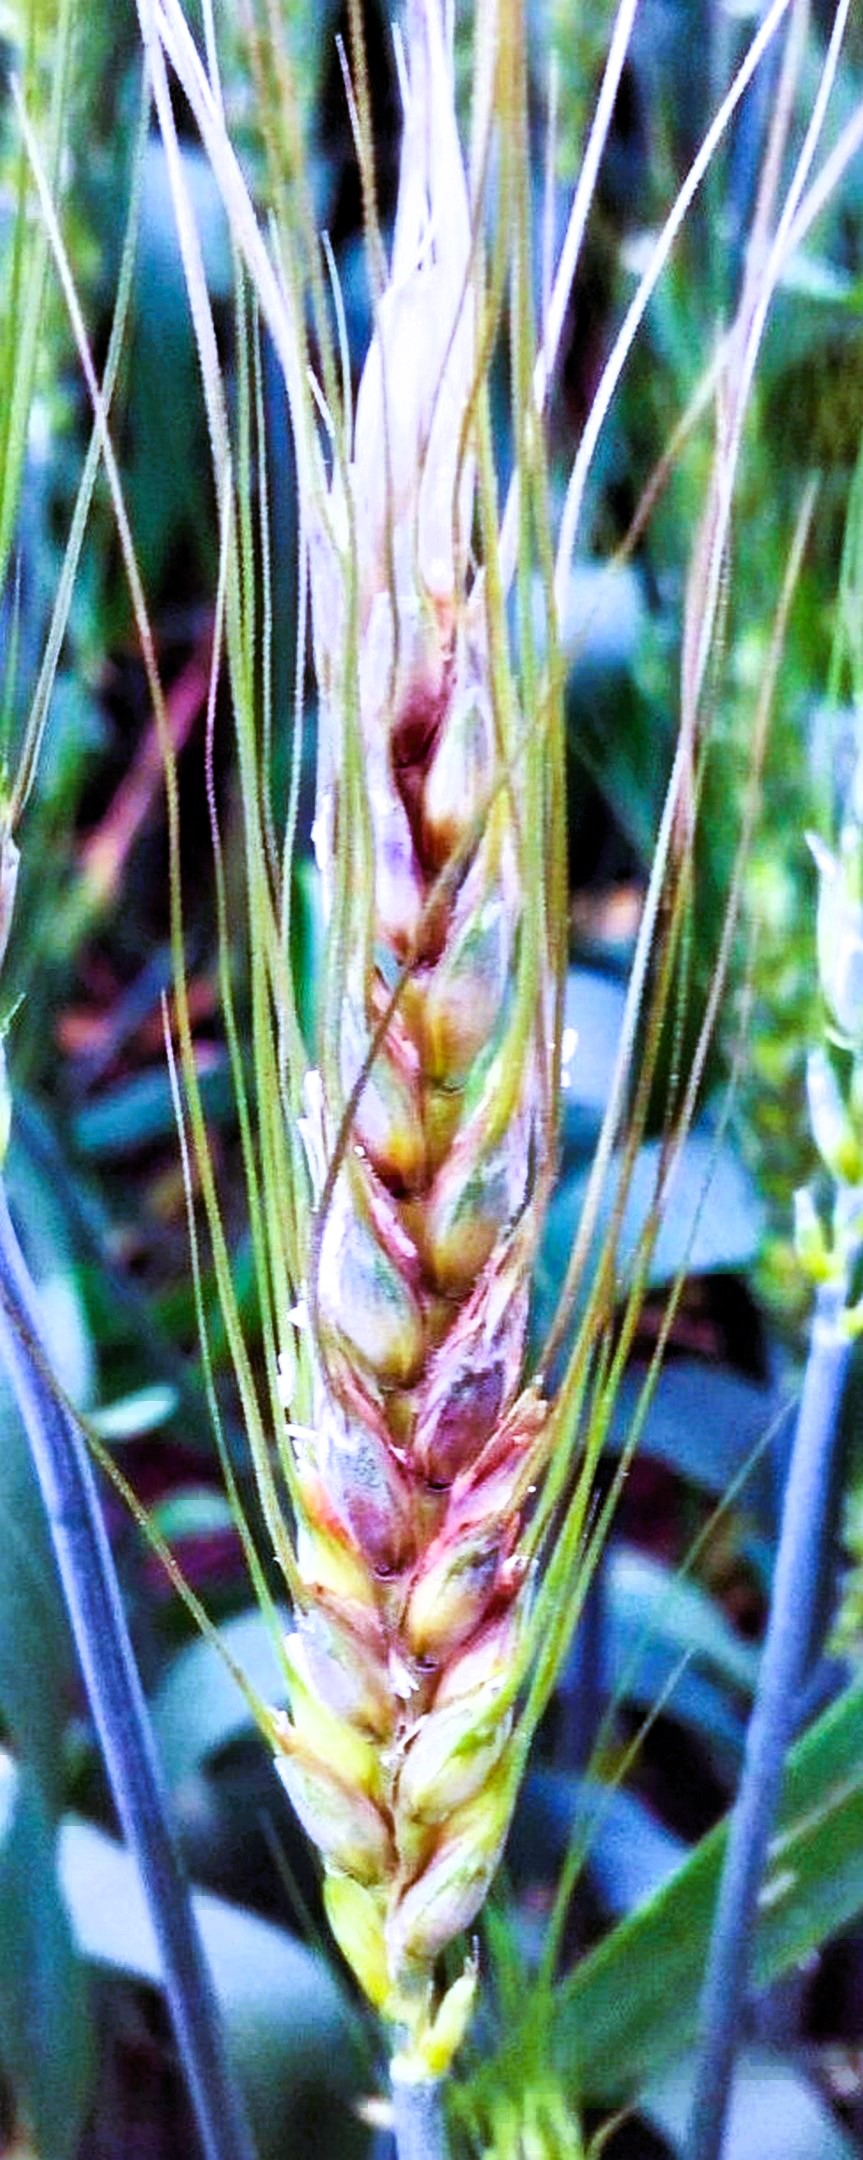Wheat scab: (167, 433, 618, 1989)
